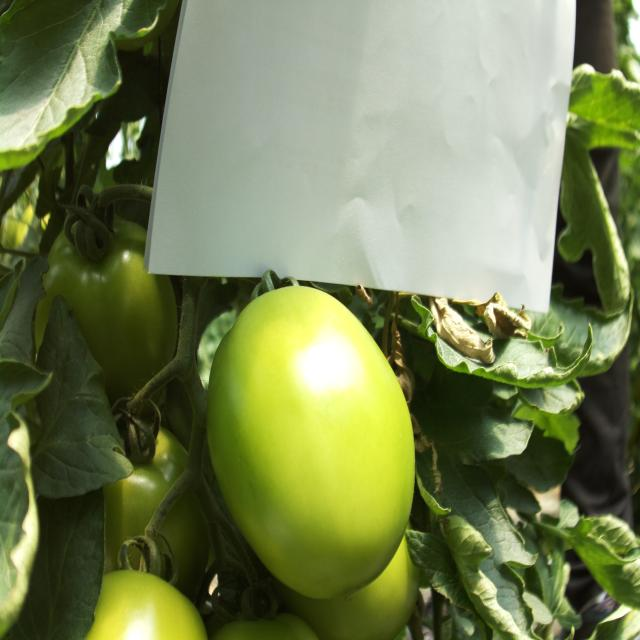yesil: (169, 240, 431, 619)
